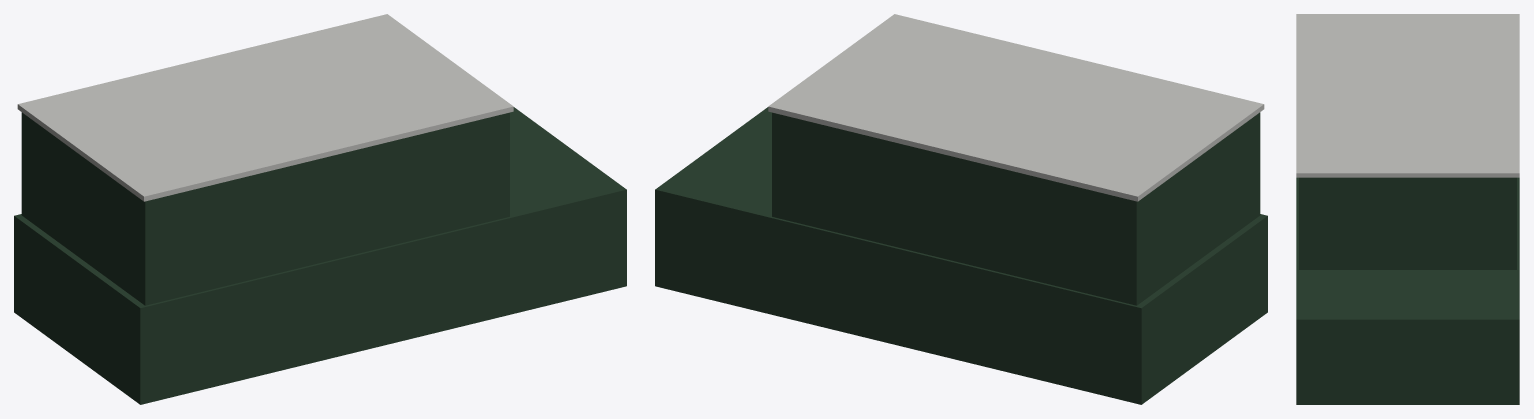
Rendered from SM_Farm4x4_0_Paint.glb.
The picture shows the model from 3 angles, left to right: view 1: azimuth 30°, elevation 25°; view 2: azimuth 150°, elevation 25°; view 3: azimuth 270°, elevation 25°; orthographic projection. The views are drawn at different scales.
Parts seen in each view (by area): view 1: SM_Farm4x4_0_Paint; view 2: SM_Farm4x4_0_Paint; view 3: SM_Farm4x4_0_Paint.
Boxes of the visible parts, x1=… form: SM_Farm4x4_0_Paint: x1=14, y1=14, x2=626, y2=404; SM_Farm4x4_0_Paint: x1=655, y1=14, x2=1267, y2=404; SM_Farm4x4_0_Paint: x1=1296, y1=14, x2=1519, y2=404.
Bounding box in the file's own units: 4 × 1.63 × 1.8.
